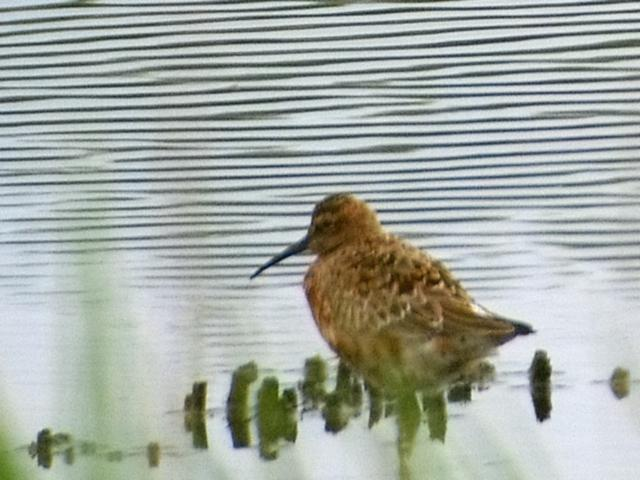bird: (256, 191, 542, 480)
